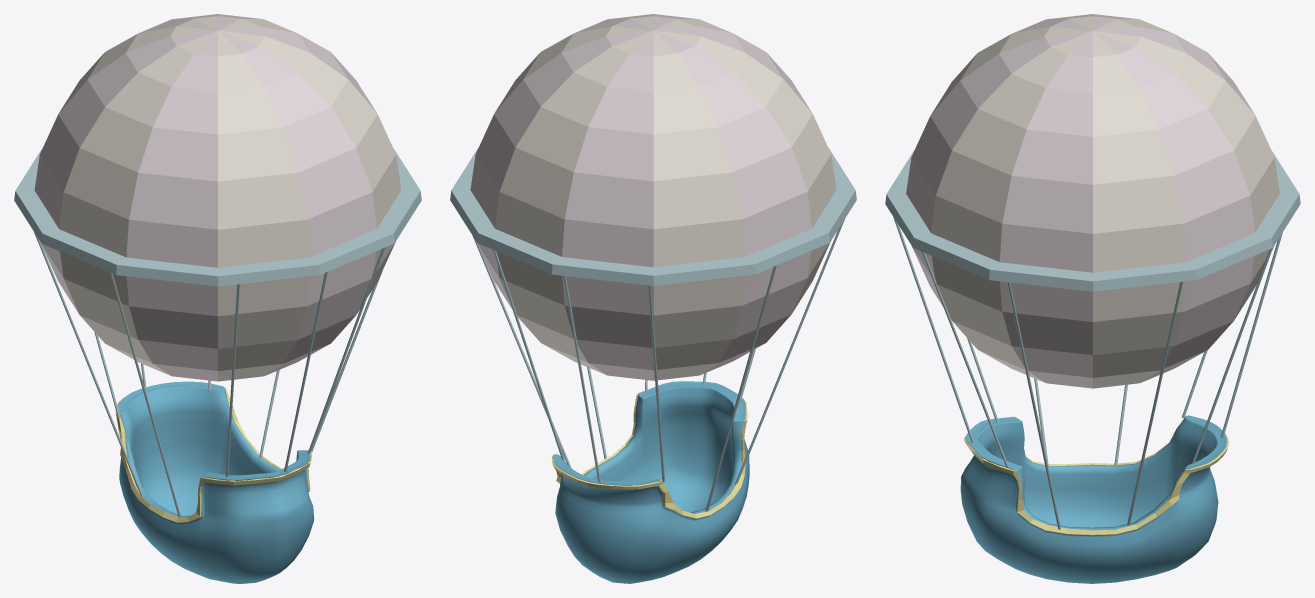
Rendered from Globo.fbx.
3 views of the same model, side by side, from view 1: azimuth 30°, elevation 25°; view 2: azimuth 150°, elevation 25°; view 3: azimuth 270°, elevation 25° (orthographic). The views are drawn at different scales.
Parts seen in each view (by area): view 1: polySurface2, polySurface1, polySurface3, polySurface5, polySurface12, polySurface8, polySurface10, polySurface9, polySurface13; view 2: polySurface2, polySurface1, polySurface3, polySurface12, polySurface5, polySurface6, polySurface11, polySurface7, polySurface4; view 3: polySurface2, polySurface1, polySurface3, polySurface13, polySurface4, polySurface10, polySurface6, polySurface8, polySurface11.
Boxes of the visible parts, box(x1,y1,x2,y2) form: polySurface2: box(14, 14, 421, 381); polySurface1: box(118, 381, 314, 583); polySurface3: box(115, 388, 312, 522); polySurface5: box(34, 232, 143, 496); polySurface12: box(109, 272, 180, 517); polySurface8: box(308, 247, 385, 453); polySurface10: box(284, 272, 327, 471); polySurface9: box(225, 284, 239, 476); polySurface13: box(311, 271, 382, 451); polySurface2: box(450, 14, 856, 380); polySurface1: box(553, 381, 749, 583); polySurface3: box(551, 391, 747, 518); polySurface12: box(735, 219, 844, 484); polySurface5: box(705, 265, 776, 511); polySurface6: box(493, 250, 565, 461); polySurface11: box(563, 276, 600, 482); polySurface7: box(648, 285, 664, 481); polySurface4: box(472, 236, 571, 468); polySurface2: box(885, 14, 1300, 388); polySurface1: box(960, 415, 1227, 583); polySurface3: box(964, 416, 1228, 535); polySurface13: box(1007, 282, 1060, 529); polySurface4: box(1127, 281, 1182, 525); polySurface10: box(893, 217, 974, 443); polySurface6: box(1191, 248, 1272, 463); polySurface8: box(922, 252, 1008, 467); polySurface11: box(1220, 232, 1282, 438).
Bounding box in the file's own units: 35.1 × 51.01 × 35.1.
